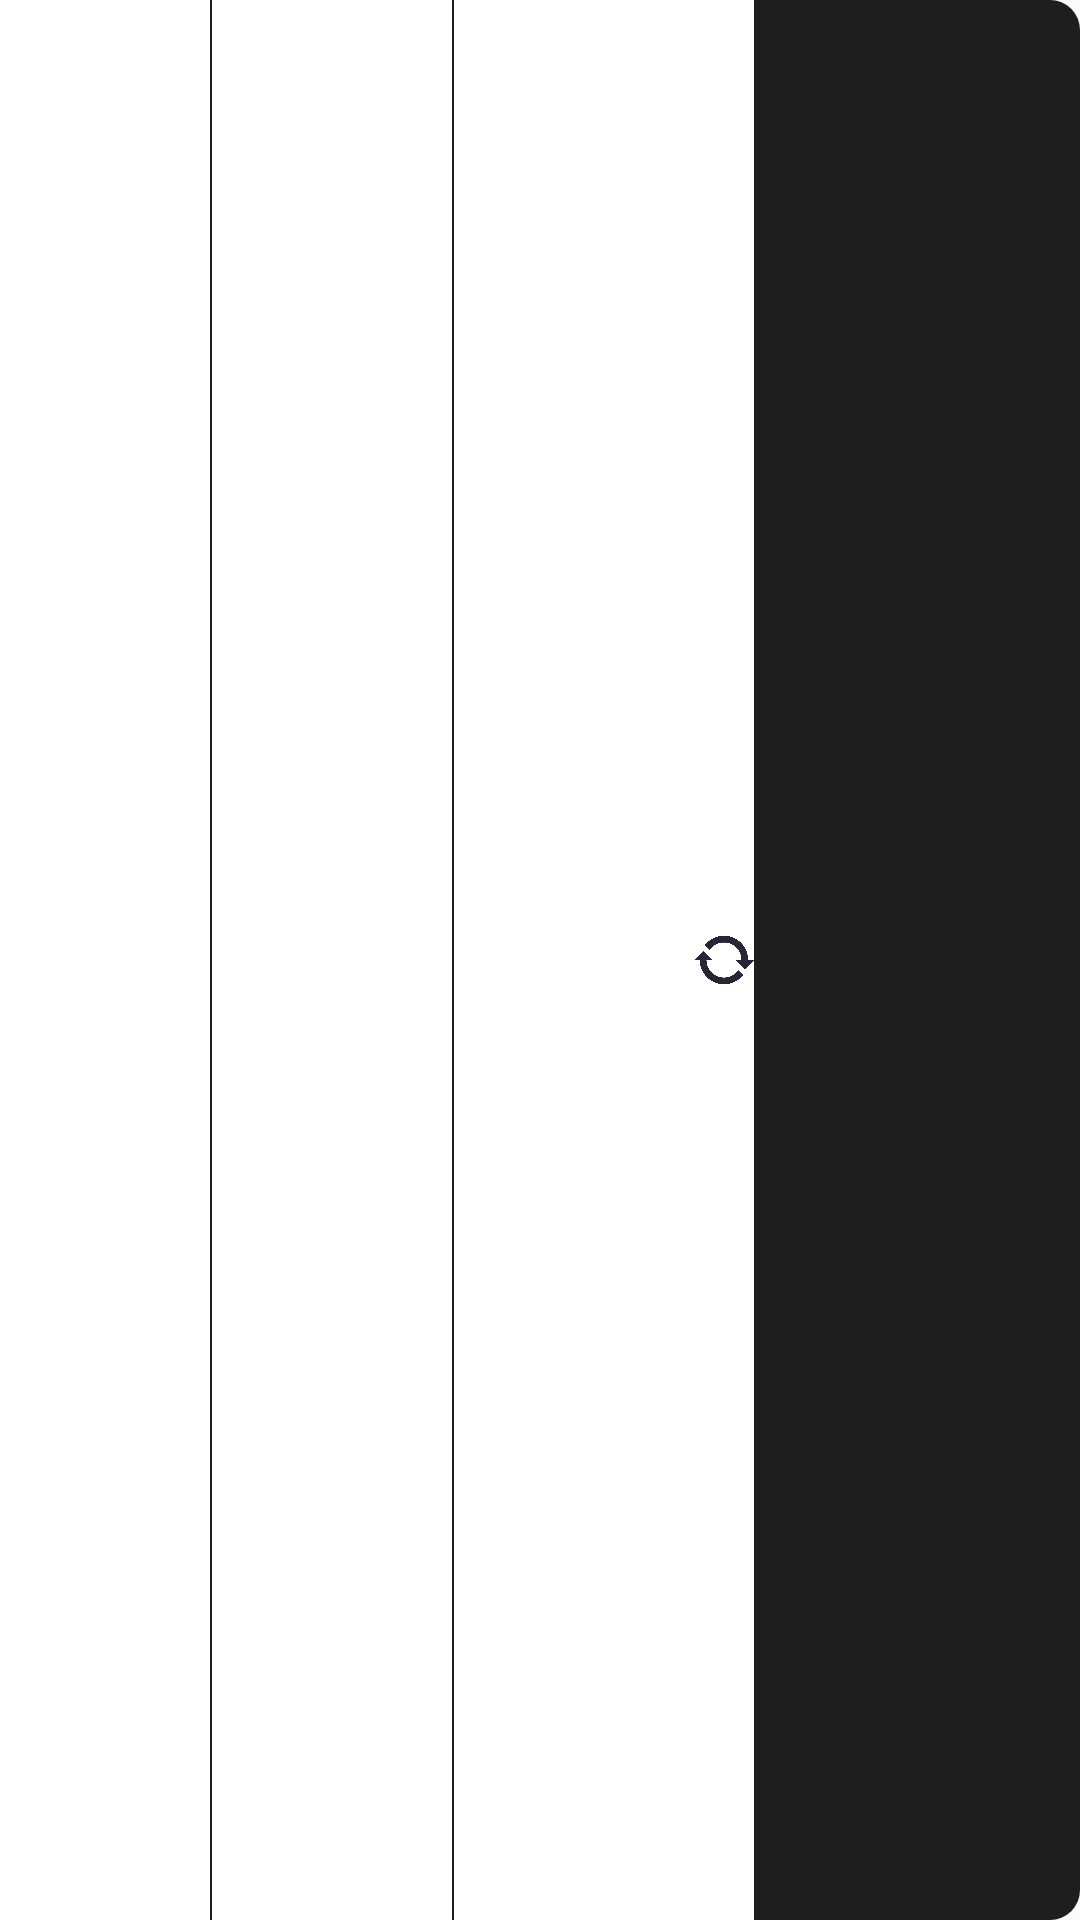

Screen size 1080px×1920px. Icon name, then its center in pixels as point (x, y):
update: point (724, 960)
